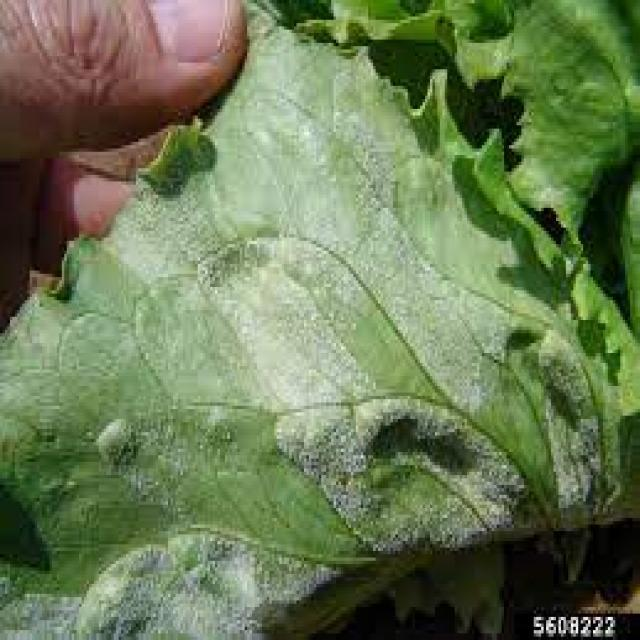Mature: (133, 213, 604, 541)
